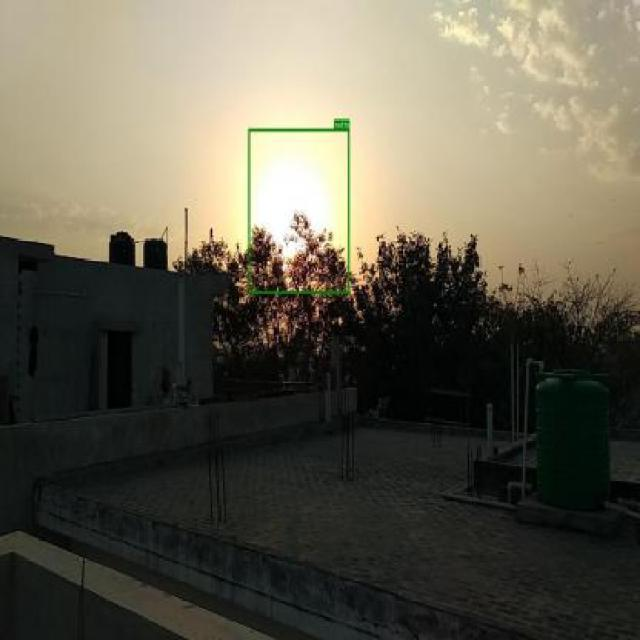other: (248, 129, 350, 293)
